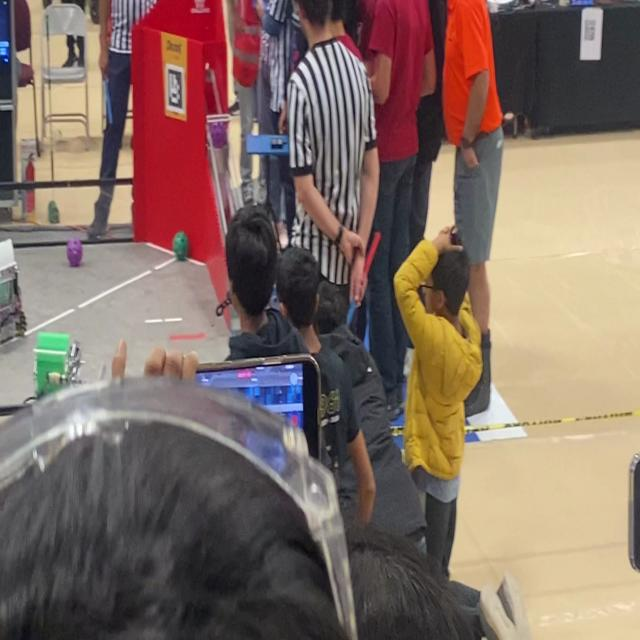artifact_green: (34, 332, 70, 397), (173, 232, 188, 261), (48, 201, 59, 224), (16, 312, 26, 336)
artifact_purple: (210, 122, 227, 148), (67, 239, 82, 267)
